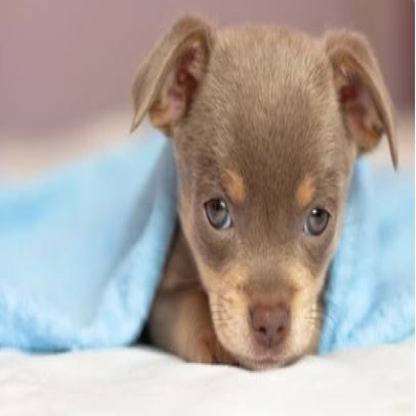chihuahua: (122, 9, 403, 371)
